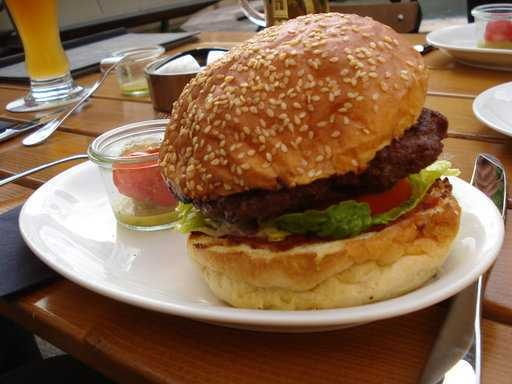hamburger: (177, 17, 472, 306)
